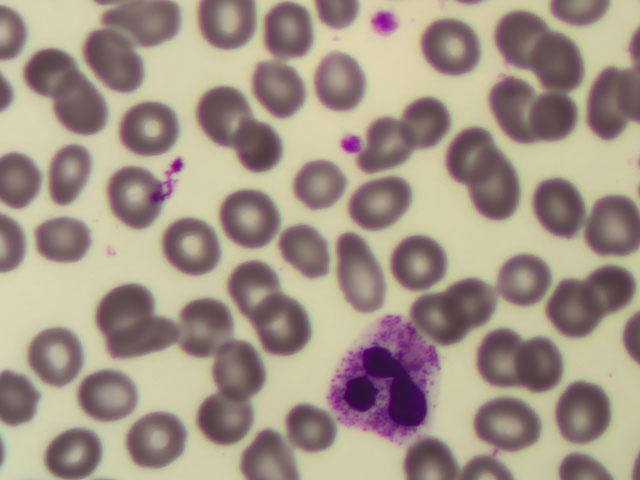Platelets: (366, 6, 402, 33), (337, 135, 360, 149)
RBC: (27, 47, 78, 97), (54, 83, 105, 133), (90, 42, 141, 92), (123, 2, 174, 52), (205, 3, 256, 53), (260, 4, 311, 54), (257, 57, 308, 107), (195, 85, 246, 135), (233, 124, 284, 174), (127, 105, 178, 155), (114, 170, 165, 220), (38, 149, 89, 199), (39, 212, 90, 262), (166, 225, 217, 275), (226, 193, 277, 243), (277, 225, 328, 275), (298, 154, 349, 204), (350, 175, 401, 225), (366, 114, 417, 164), (400, 97, 451, 147), (313, 55, 364, 105), (419, 20, 470, 70), (483, 12, 534, 62), (534, 37, 585, 87), (490, 82, 541, 132), (524, 87, 575, 137), (589, 77, 640, 127), (535, 174, 586, 224), (589, 211, 640, 261), (464, 164, 515, 214), (447, 131, 498, 181), (500, 252, 551, 302), (556, 282, 607, 332), (585, 263, 636, 313), (459, 276, 510, 326), (416, 288, 467, 338), (395, 233, 446, 283), (334, 244, 385, 294), (266, 299, 317, 349), (224, 266, 275, 316), (182, 298, 233, 348), (214, 342, 265, 392), (207, 387, 258, 437), (135, 415, 186, 465), (85, 366, 136, 416), (127, 305, 178, 355), (96, 282, 147, 332), (27, 328, 78, 378), (53, 430, 104, 480), (250, 430, 301, 480), (283, 402, 334, 452), (487, 401, 538, 451), (480, 329, 531, 379), (516, 340, 567, 390), (557, 386, 608, 436)
WBC: (327, 317, 444, 443)
